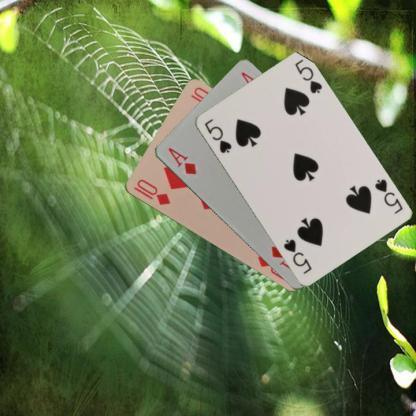10d: (130, 176, 172, 207)
5s: (371, 176, 404, 215), (202, 116, 233, 154)
Ad: (164, 145, 198, 177)
